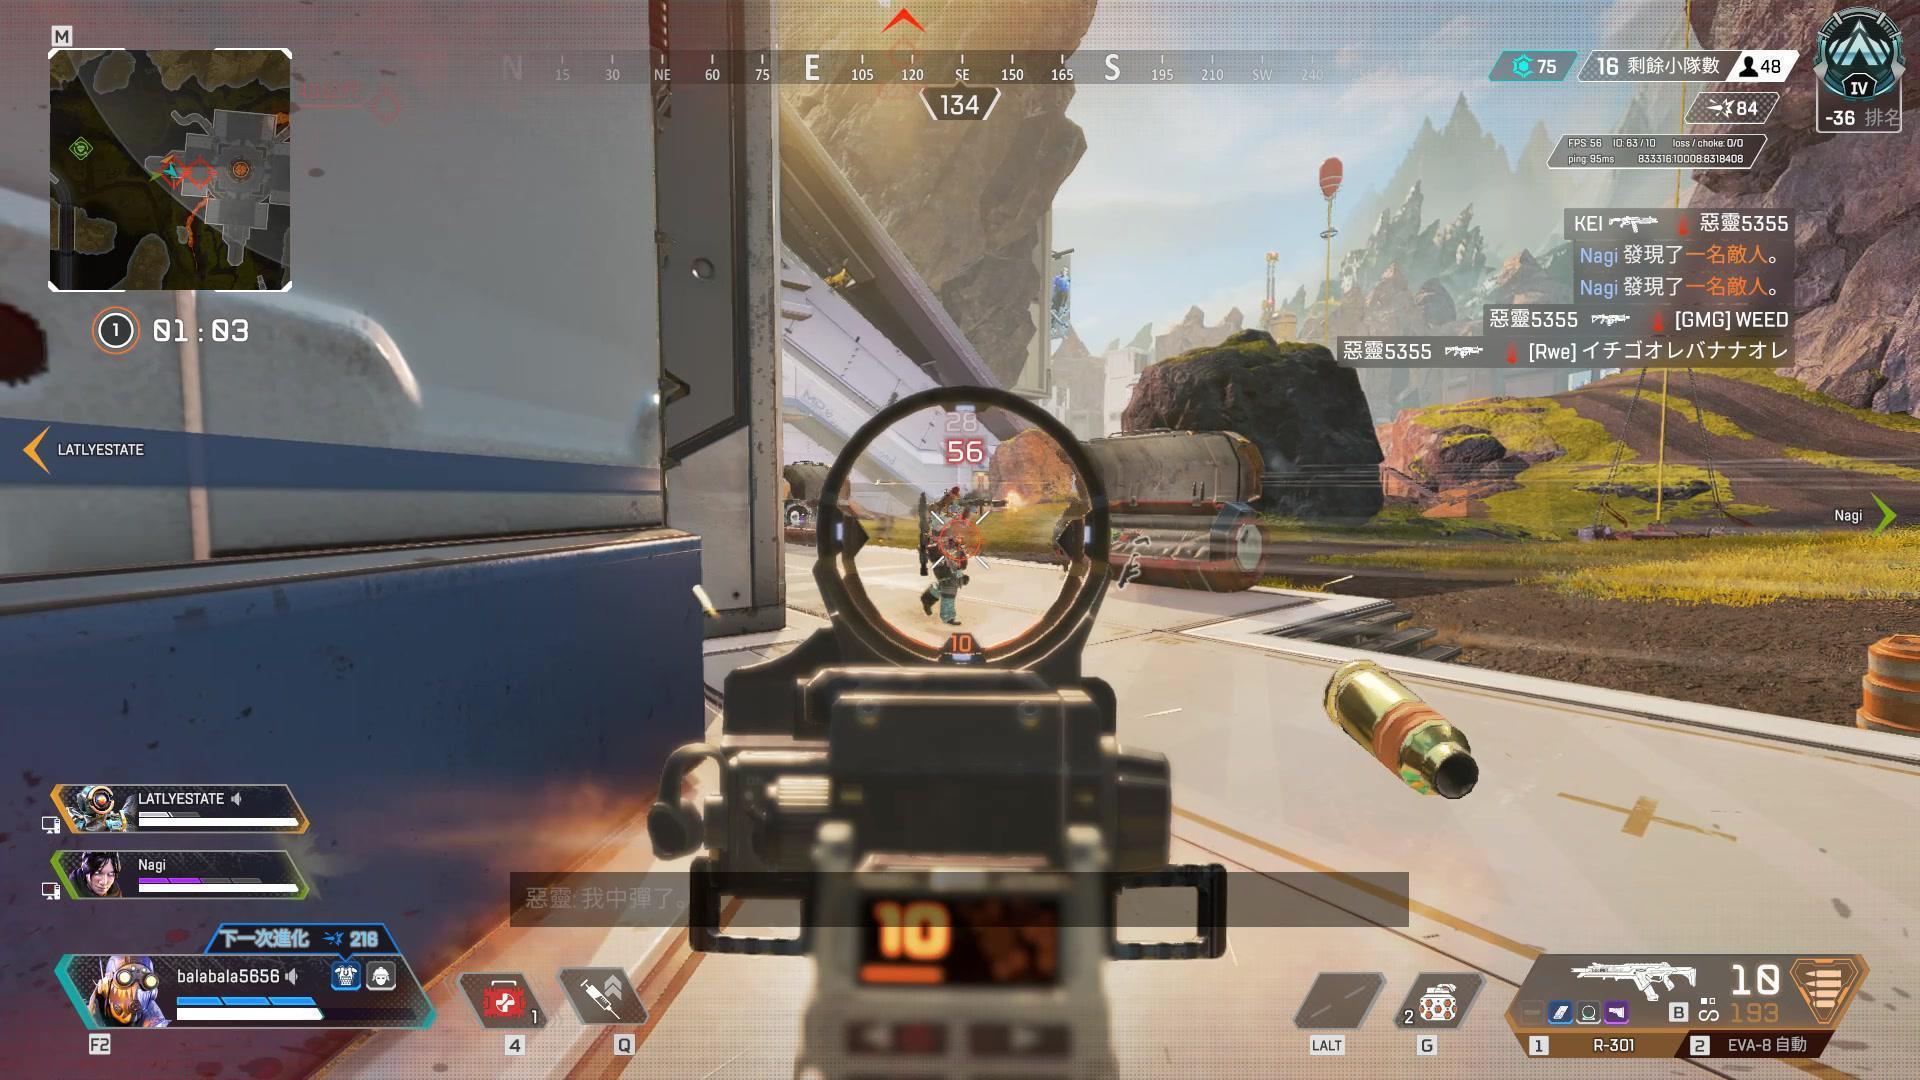avatar: (916, 483, 975, 629)
